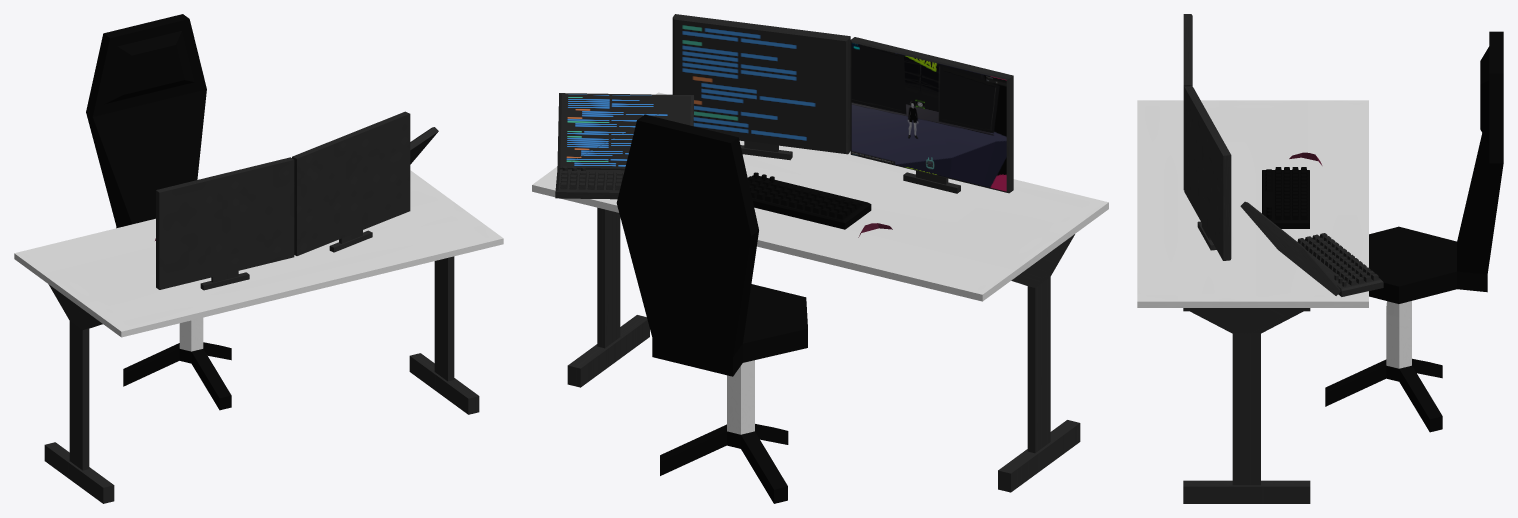
File: workplace.glb
3 renders of one model, left to right at view 1: azimuth 30°, elevation 25°; view 2: azimuth 150°, elevation 25°; view 3: azimuth 270°, elevation 25°, orthographic. The views are drawn at different scales.
Visible parts, largest first — view 1: workplace; view 2: workplace; view 3: workplace.
Boxes of the visible parts, <box> form: workplace: <box>14,14,503,503</box>; workplace: <box>532,14,1108,503</box>; workplace: <box>1137,14,1503,503</box>.
Size of what is drawn, in the model's own units: 1.6 by 1.27 by 1.2.
Materials: 4 (4 with a texture image).
